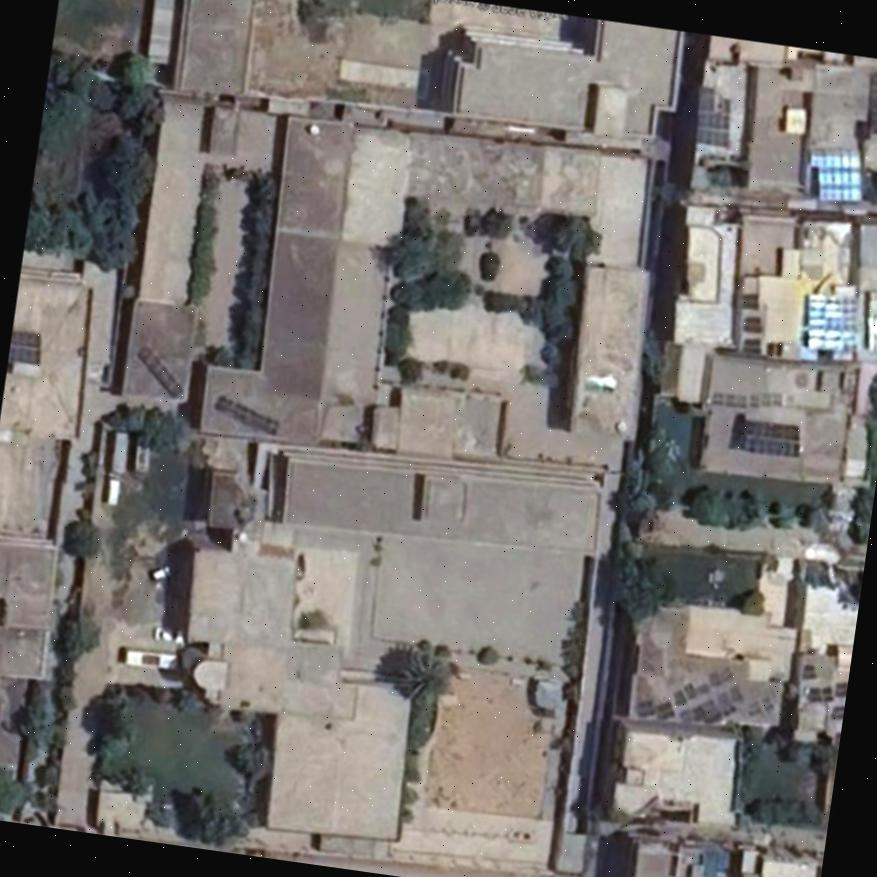Solarpanel: (808, 295, 857, 349), (213, 395, 276, 436), (738, 417, 796, 459), (809, 152, 859, 200), (137, 346, 180, 396), (695, 96, 727, 146), (7, 330, 40, 362)
